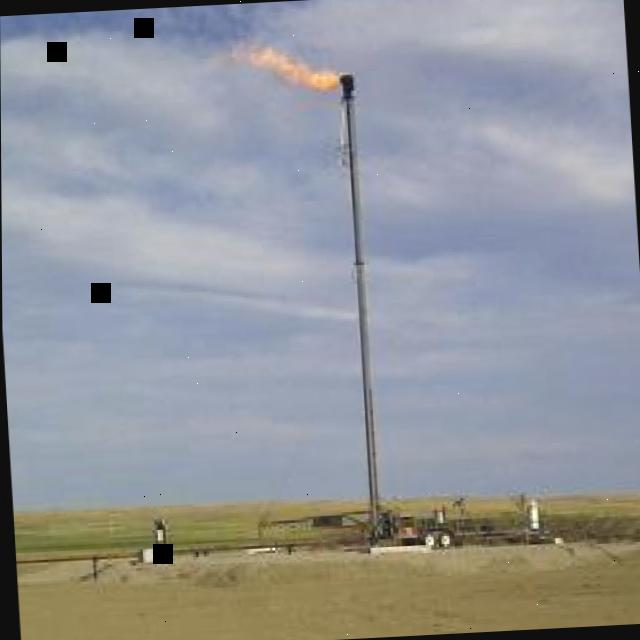fire: (227, 43, 346, 90)
